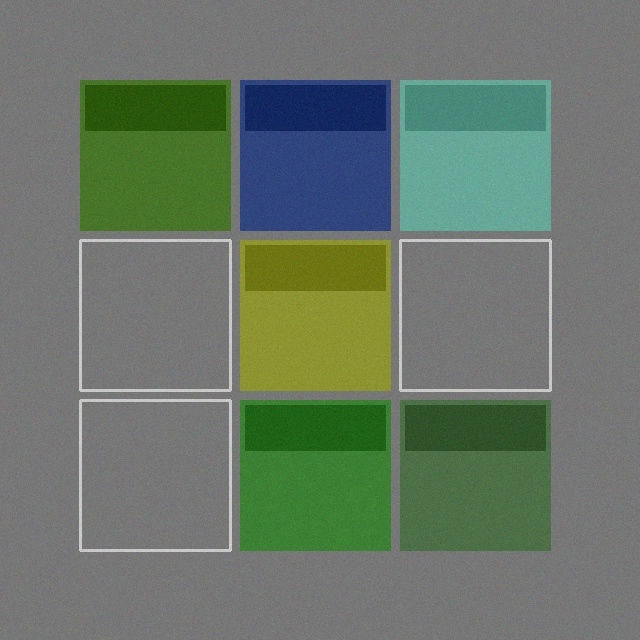space-empty: (80, 240, 230, 390), (400, 240, 550, 390), (80, 400, 230, 550)
space-occupied: (80, 80, 230, 230), (240, 80, 390, 230), (400, 80, 550, 230), (240, 240, 390, 390), (240, 400, 390, 550), (400, 400, 550, 550)
